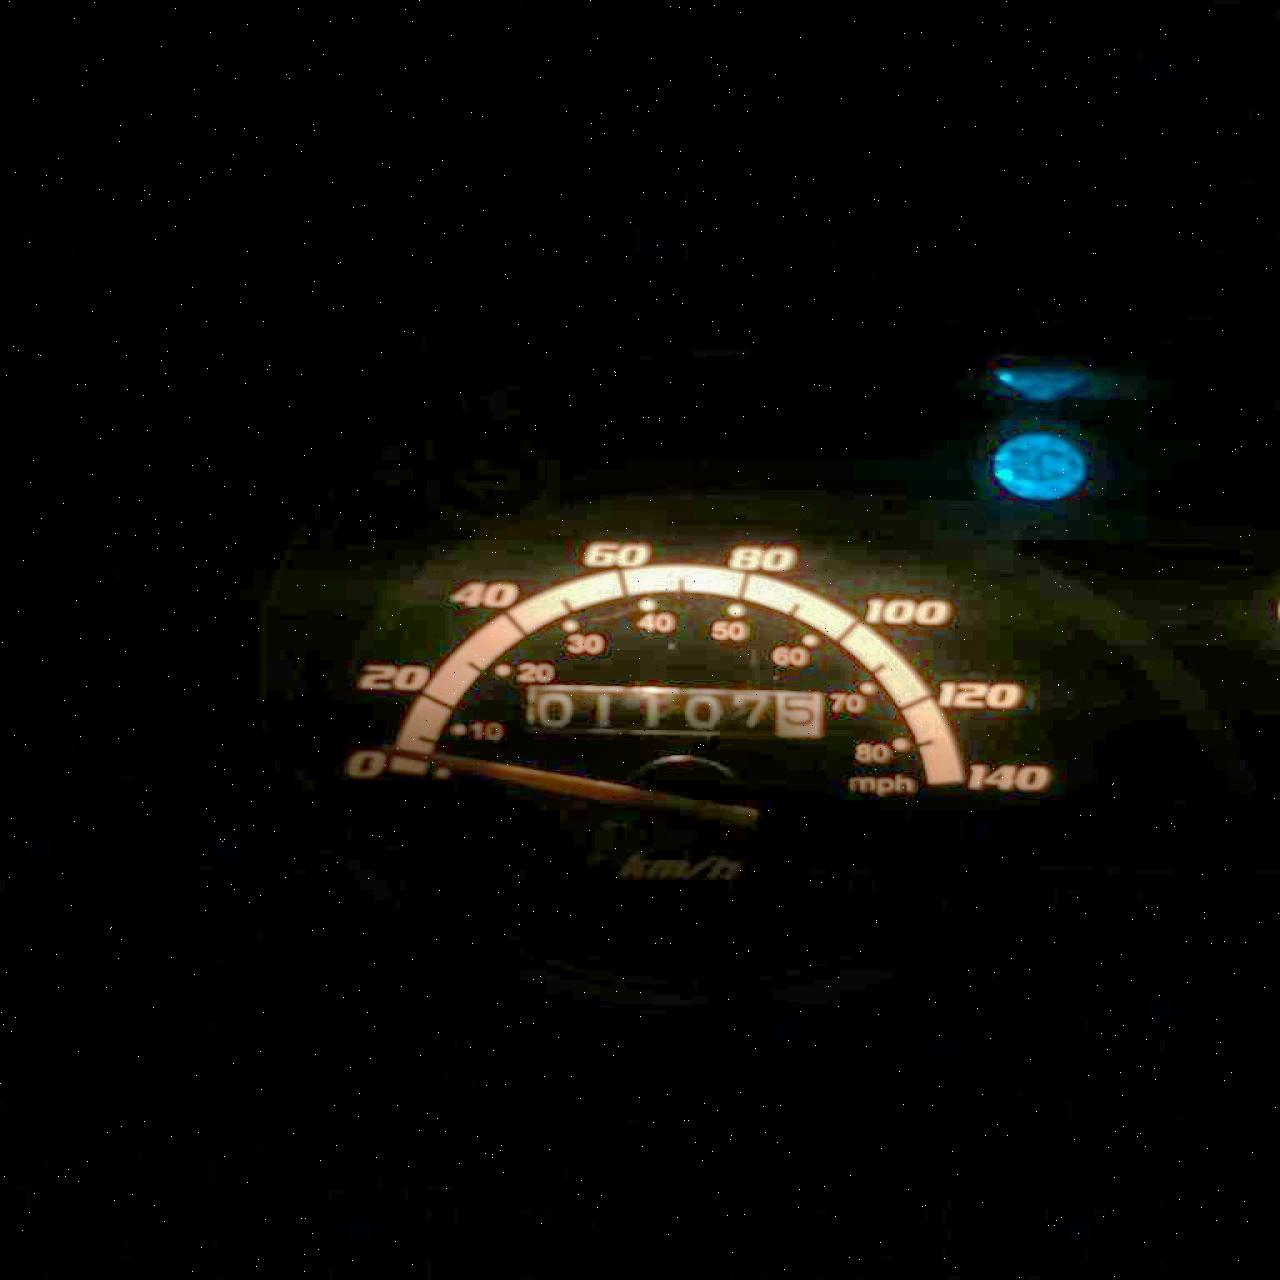0: (680, 692, 723, 733), (530, 689, 573, 729)
1: (586, 690, 617, 728), (639, 692, 663, 729)
5: (777, 692, 818, 729)
7: (728, 690, 771, 730)
odometer: (518, 680, 829, 740)
